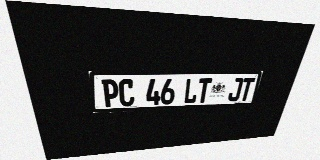4: (146, 79, 161, 105)
6: (160, 79, 176, 105)
C: (118, 79, 134, 107)
J: (227, 78, 244, 101)
L: (183, 78, 199, 104)
P: (101, 79, 119, 107)
T: (196, 78, 212, 103), (238, 78, 255, 101)
